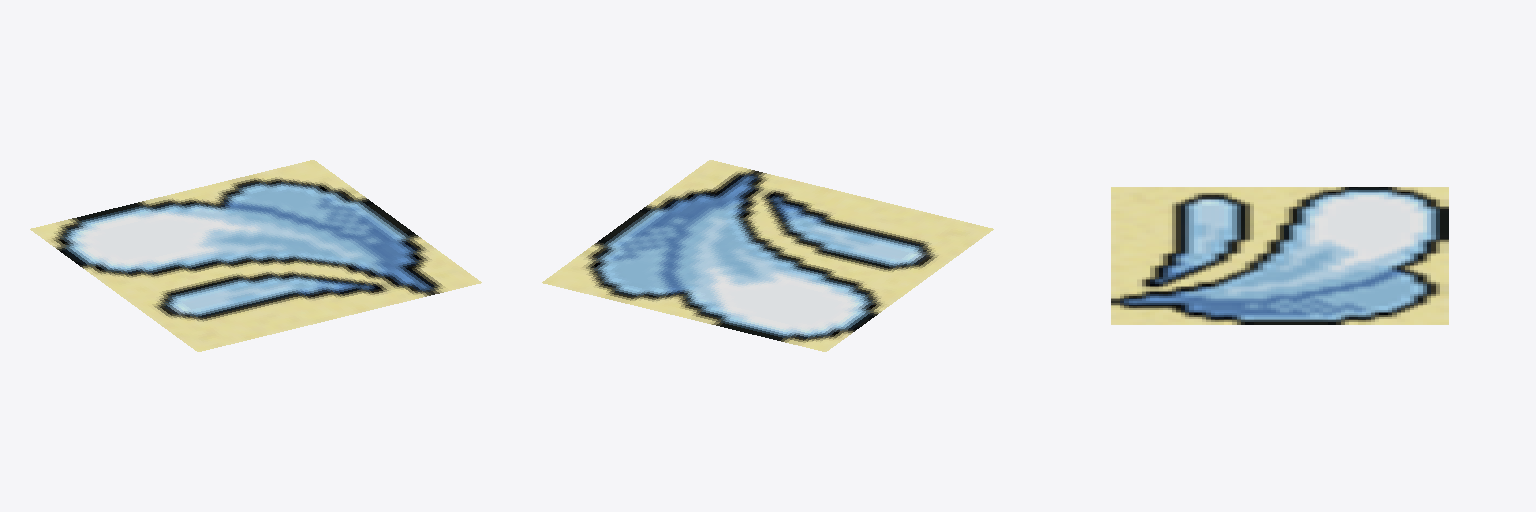
The picture shows the model from 3 angles: view 1: azimuth 30°, elevation 25°; view 2: azimuth 150°, elevation 25°; view 3: azimuth 270°, elevation 25°; orthographic projection.
Visible parts, largest first — view 1: Box001; view 2: Box001; view 3: Box001.
Part boxes in pixels (left/top/right/bottom): Box001: left=30, top=160, right=481, bottom=351; Box001: left=542, top=160, right=993, bottom=351; Box001: left=1111, top=187, right=1448, bottom=324.
Size of the model in its own units: 78 by 0.0001 by 80.
1 materials, 1 textured.